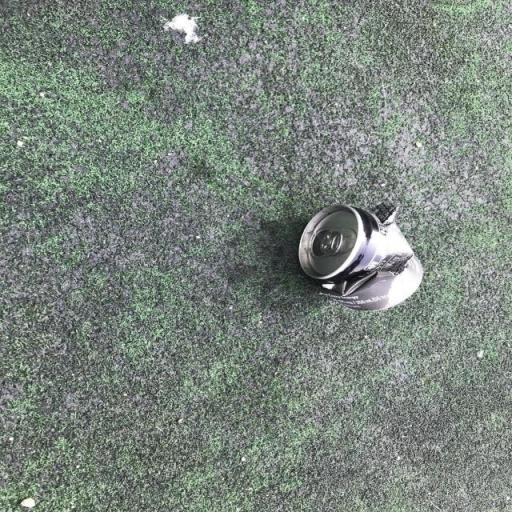metal: (285, 184, 440, 338)
